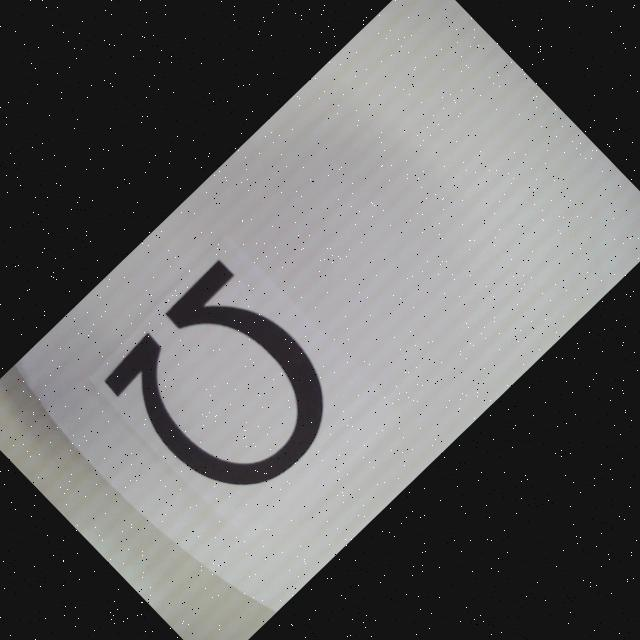OMEGA: (98, 258, 359, 520)
